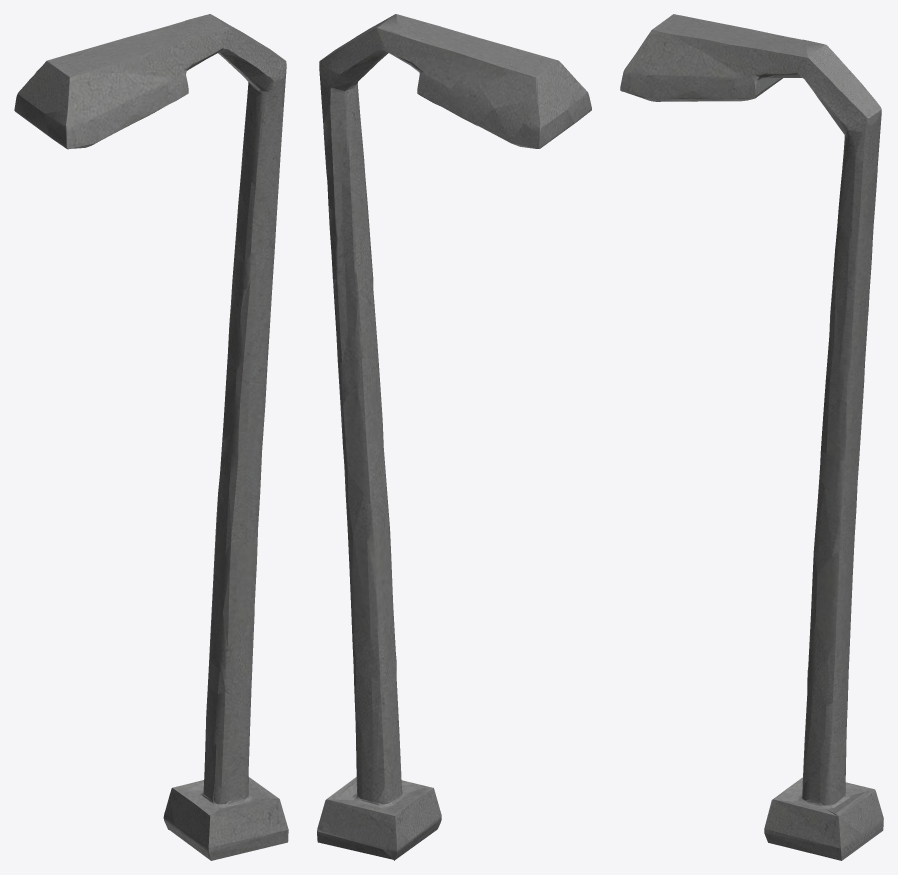
File: street_light.glb
The picture shows the model from 3 angles, left to right: view 1: azimuth 30°, elevation 25°; view 2: azimuth 150°, elevation 25°; view 3: azimuth 330°, elevation 25°; orthographic projection. The views are drawn at different scales.
Visible parts, largest first — view 1: Mesh_0; view 2: Mesh_0; view 3: Mesh_0.
Boxes of the visible parts, x1=… form: Mesh_0: x1=14, y1=14, x2=288, y2=860; Mesh_0: x1=317, y1=14, x2=591, y2=860; Mesh_0: x1=620, y1=14, x2=883, y2=860.
Bounding box in the file's own units: 0.5854 × 1.9 × 0.223.
Materials: 1 (1 with a texture image).
